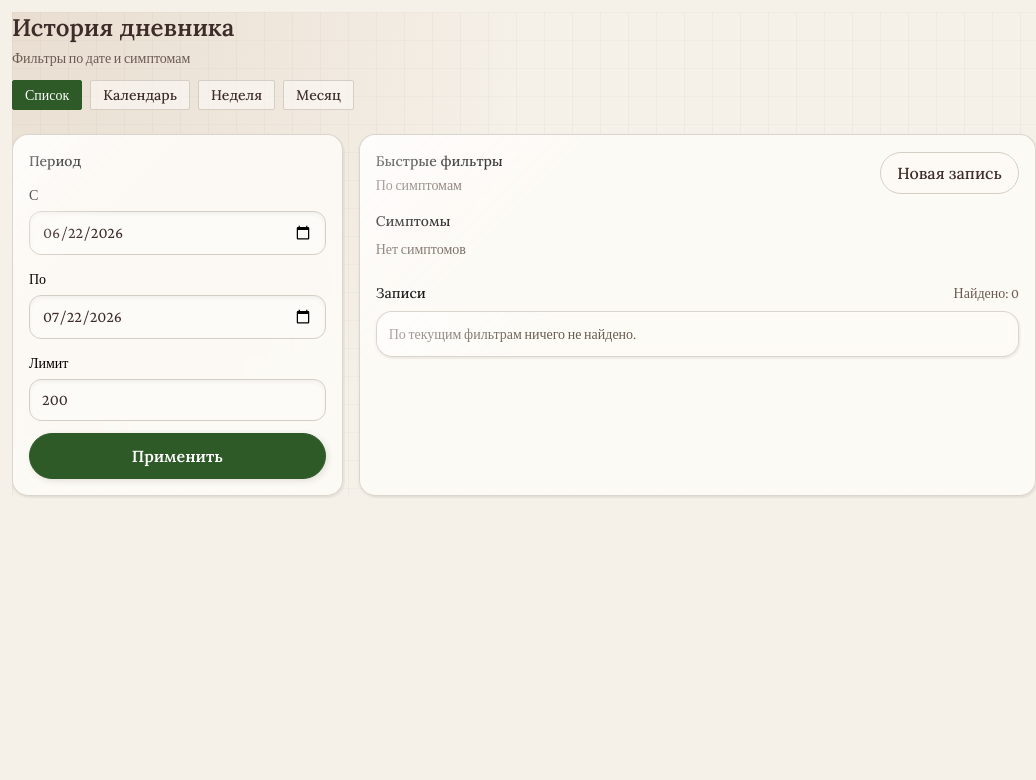
Test case: DiaryHistoryPage › should render calendar when switching to Calendar view
Expected: the text "Записи" is shown, [376, 283, 426, 303]
Click the button "Календарь" at (140, 95), box [90, 80, 190, 110]
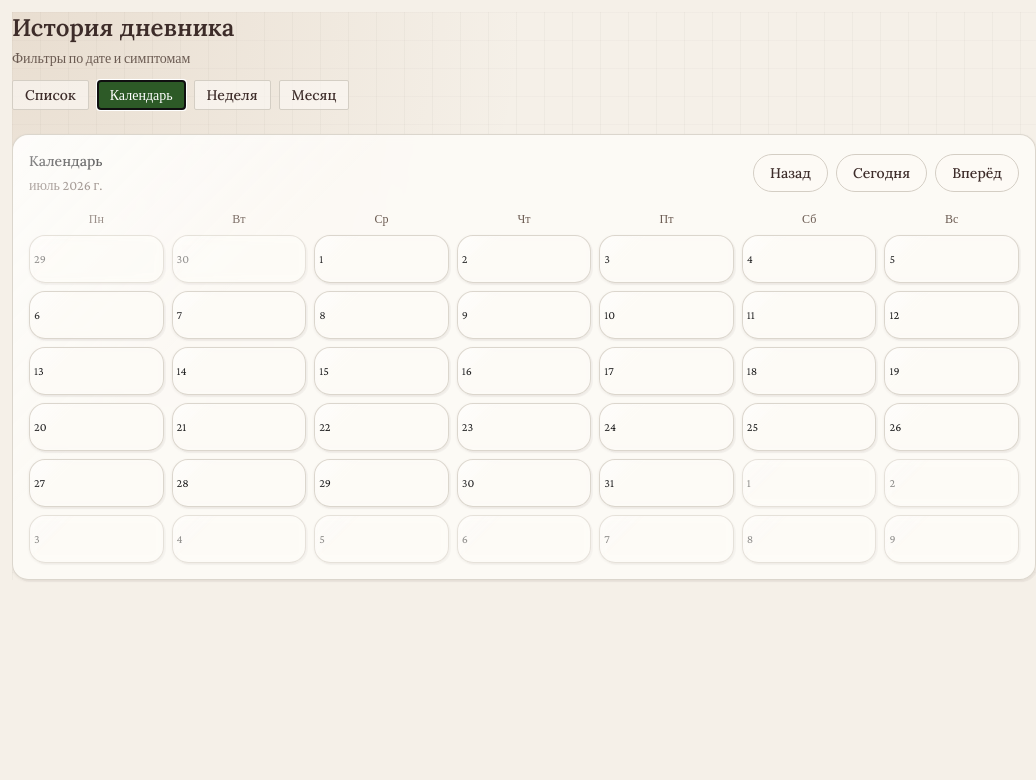
Expected: the text "Пн" is shown, [89, 212, 104, 226]
